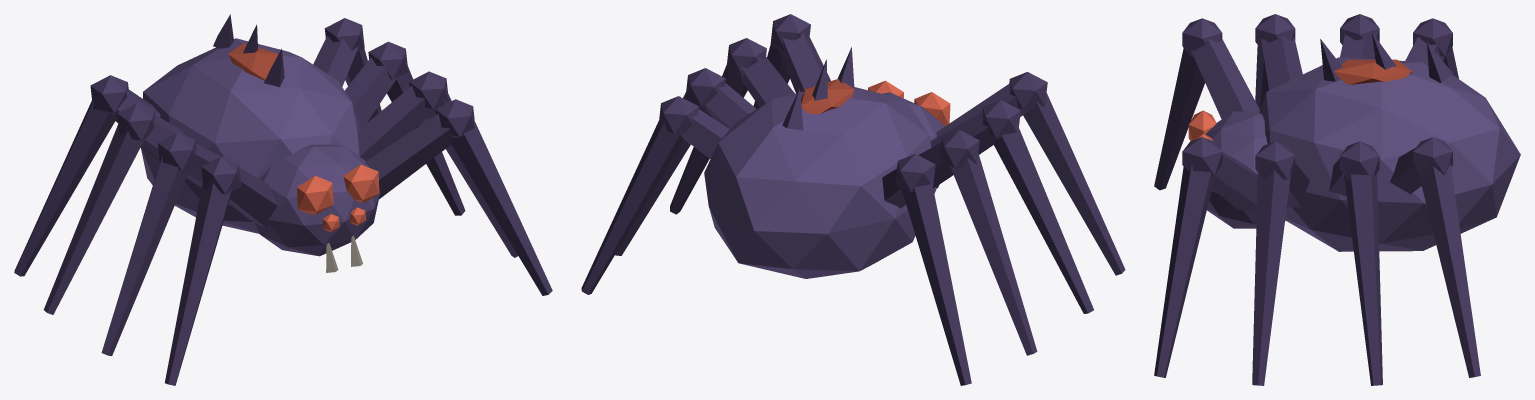
The model's file is enemy_creeper.glb.
3 views of the same model, side by side, from view 1: azimuth 30°, elevation 25°; view 2: azimuth 150°, elevation 25°; view 3: azimuth 270°, elevation 25° (orthographic). The views are drawn at different scales.
Parts seen in each view (by area): view 1: enemy_creeper; view 2: enemy_creeper; view 3: enemy_creeper.
Boxes of the visible parts, bbox=[...] form: enemy_creeper: bbox=[14, 14, 552, 385]; enemy_creeper: bbox=[581, 14, 1125, 385]; enemy_creeper: bbox=[1154, 14, 1520, 385].
Bounding box in the file's own units: 2.38 × 1.31 × 1.73.
